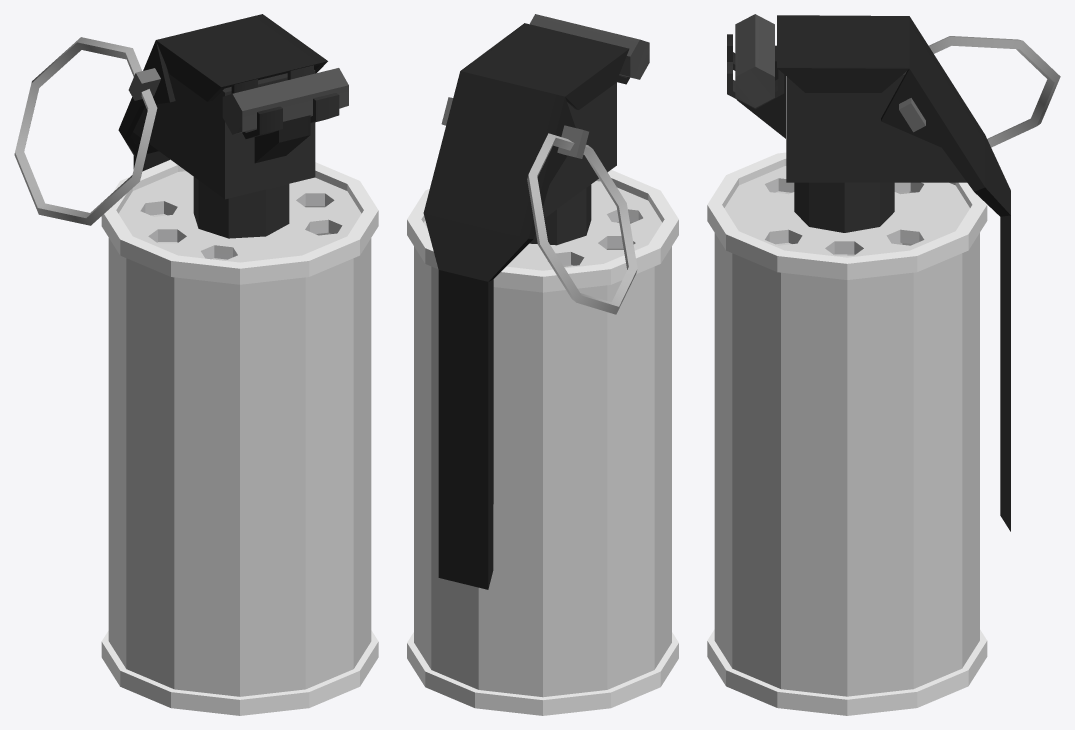
The model's file is Smoke1.FBX.
3 views of the same model, side by side, from view 1: azimuth 30°, elevation 25°; view 2: azimuth 150°, elevation 25°; view 3: azimuth 270°, elevation 25° (orthographic). The views are drawn at different scales.
Parts seen in each view (by area): view 1: Cylinder012, Sphere007, Object008, Object025; view 2: Cylinder012, Sphere007, Object008, Object025; view 3: Cylinder012, Sphere007, Object008.
Part boxes in pixels (box(x1,y1,x2,y2)): Cylinder012: box(101, 159, 378, 715); Sphere007: box(118, 14, 348, 238); Object008: box(14, 37, 157, 225); Object025: box(128, 68, 160, 100); Cylinder012: box(407, 169, 678, 715); Sphere007: box(423, 14, 649, 589); Object008: box(527, 133, 637, 314); Object025: box(441, 97, 588, 158); Cylinder012: box(707, 152, 987, 715); Sphere007: box(727, 14, 1010, 531); Object008: box(929, 36, 1060, 147).
Bounding box in the file's own units: 0.1352 × 0.3033 × 0.1575.
